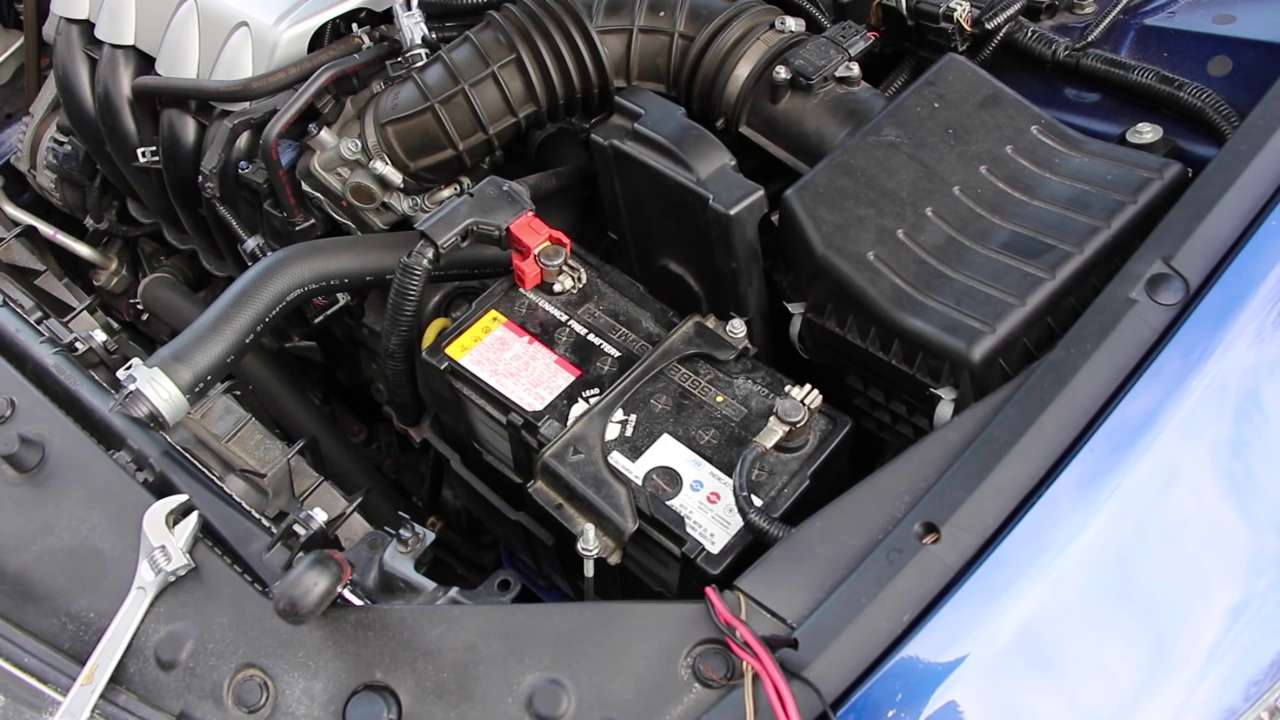battery: (392, 170, 848, 585)
neg_connected: (737, 353, 828, 491)
pos_connected: (469, 176, 596, 305)
